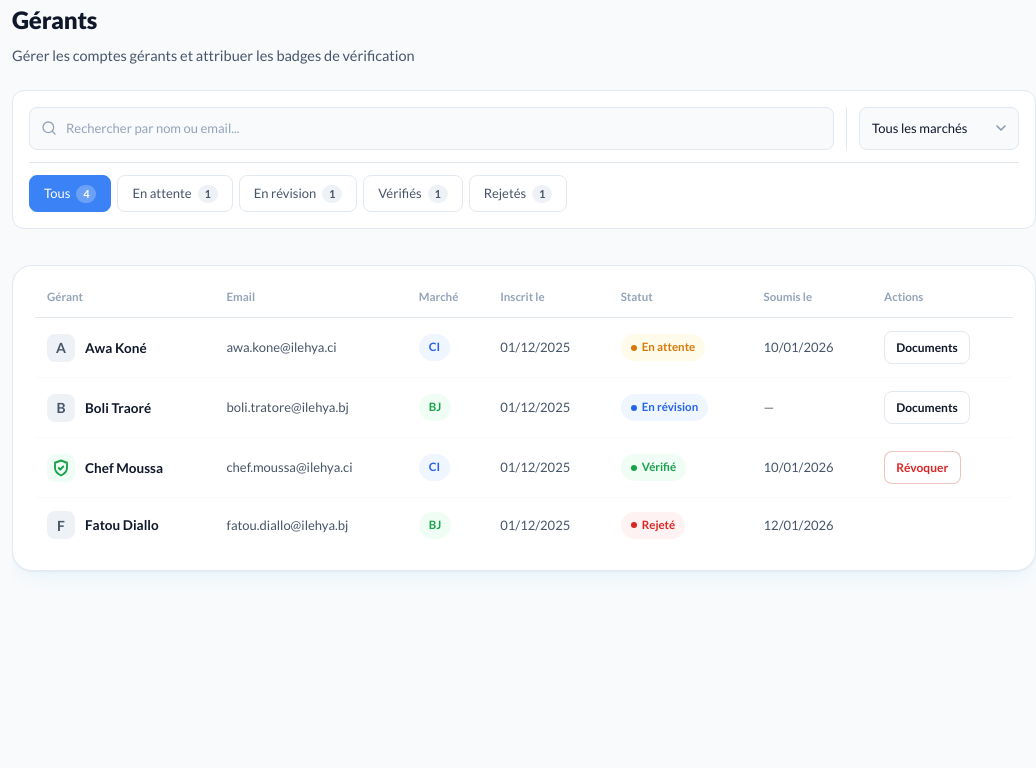
Test: AdminGerantsPage › révoque la vérification et met à jour la ligne
Click the button "Révoquer".
click(922, 468)  # box top-left (884, 451), bottom-right (960, 484)
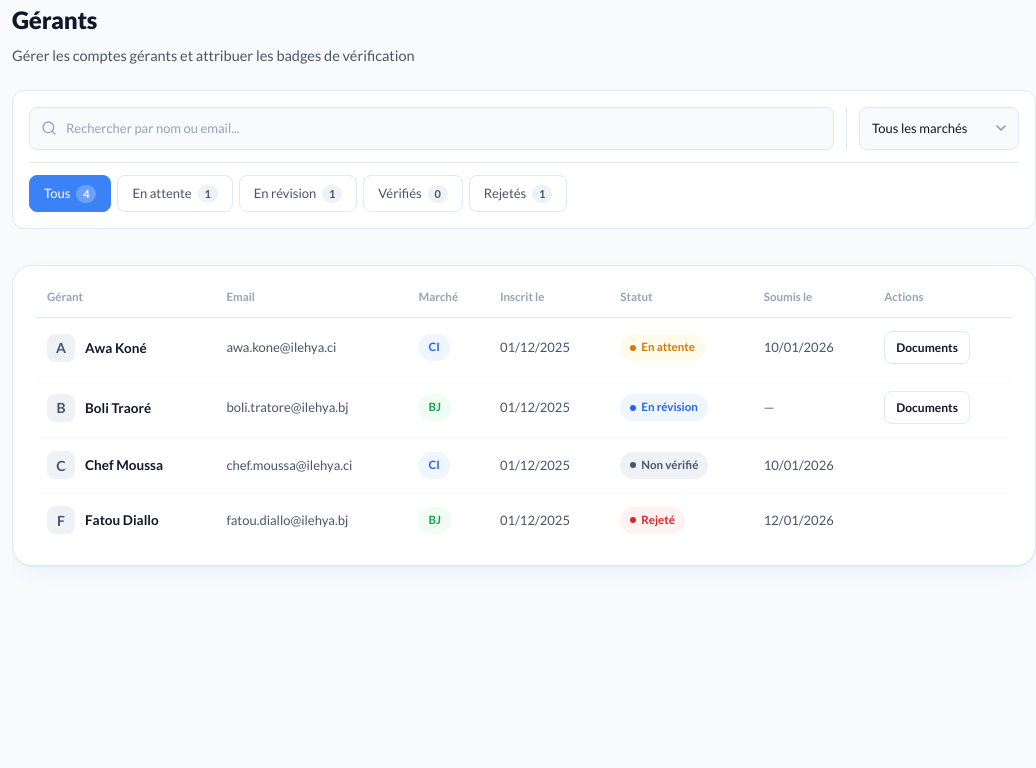
Result: the text "Non vérifié" is shown at top-left (620, 452), bottom-right (708, 479)
Result: the button "Révoquer" is gone
